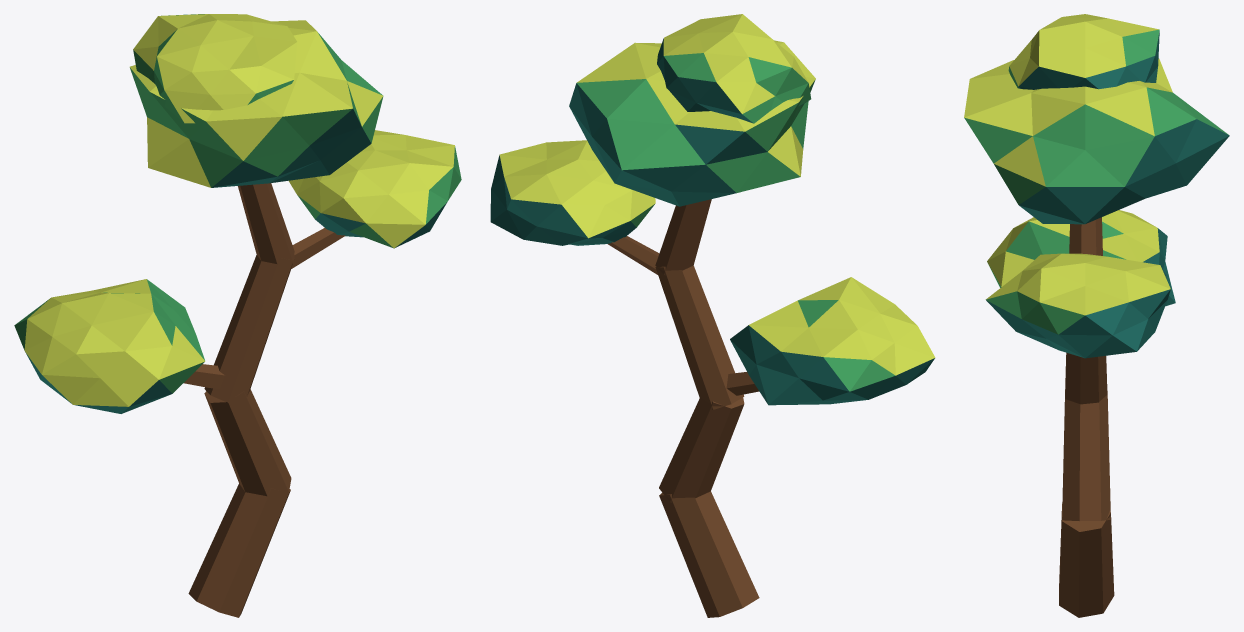
Rendered from Agac_Kivrimli.fbx.
3 views of the same model, side by side, from view 1: azimuth 30°, elevation 25°; view 2: azimuth 150°, elevation 25°; view 3: azimuth 270°, elevation 25° (orthographic).
Parts seen in each view (by area): view 1: Agac_Kivrimli; view 2: Agac_Kivrimli; view 3: Agac_Kivrimli.
Boxes of the visible parts, <box> form: Agac_Kivrimli: <box>14,14,461,617</box>; Agac_Kivrimli: <box>490,14,935,617</box>; Agac_Kivrimli: <box>964,14,1229,617</box>.
Bounding box in the file's own units: 218 × 289 × 119.
